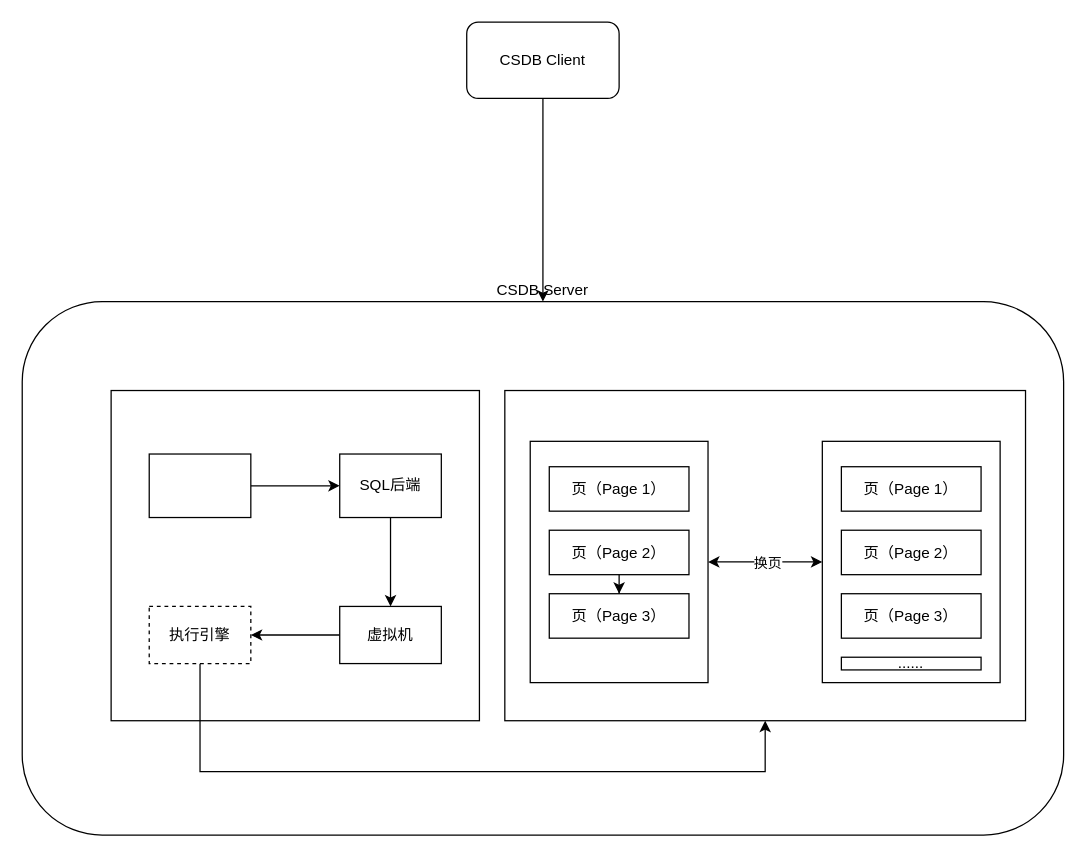
Image size: 1086x857. Some labels were removed from this diagram. Each missing label, with the box of its shape:
SQL前端: (148, 453, 251, 518)
SQL模块: (110, 389, 479, 721)
内存模块: (529, 440, 708, 683)
存储模块: (504, 389, 1026, 721)
持久化模块: (821, 440, 1000, 683)
